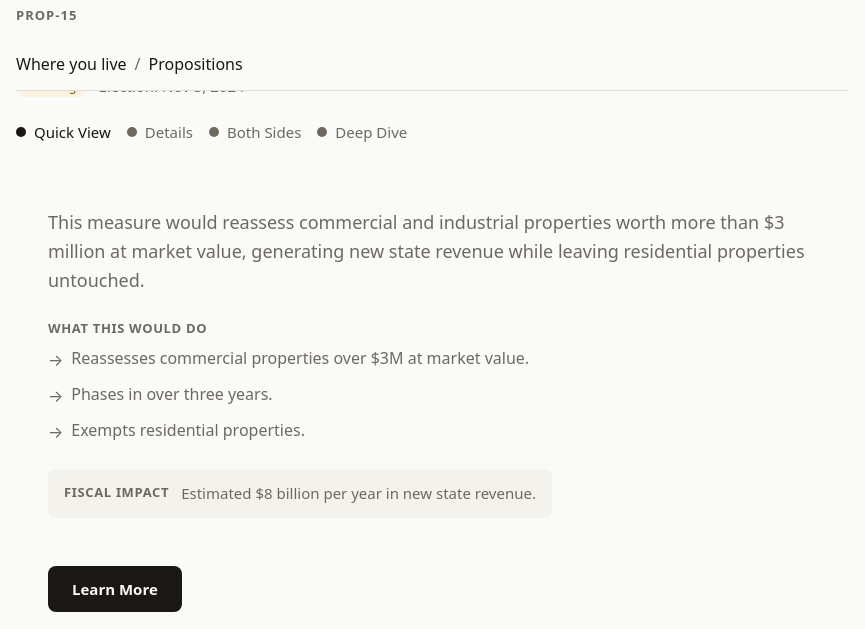
Test: PropositionDetailPage › Layer 2 - Details › should render the analyzer's key provisions, yes/no outcomes, and existing-vs-proposed sections
(page scrolled)
Click the button "Learn More".
click(115, 589)  # box [48,566,182,612]
(page scrolled)
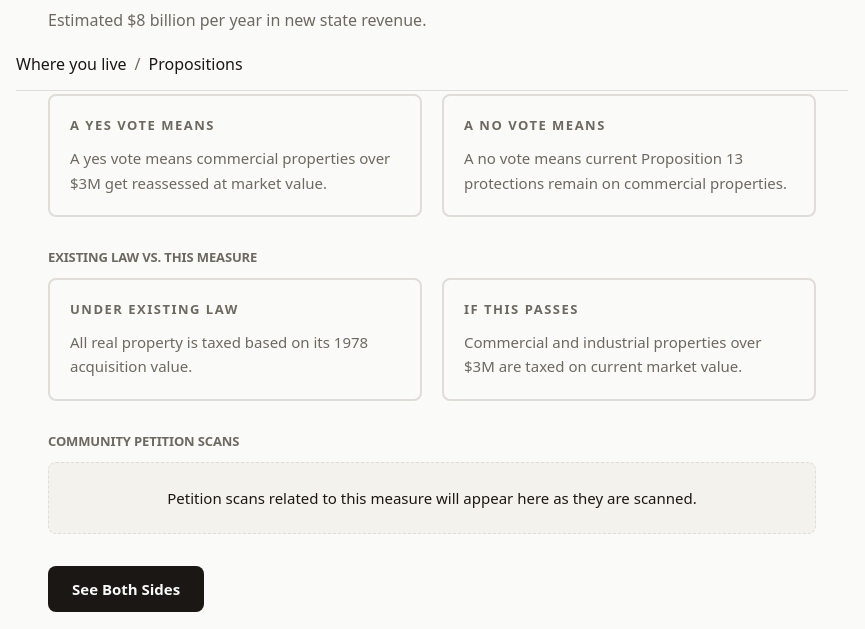
Now the text "A yes vote means commercial properties" is shown, box [70,148,390,193]
Now the text "A no vote means current Proposition 13" is shown, box [464,148,787,193]
Now the text "All real property is taxed based on its 1978" is shown, box [70,332,368,376]
